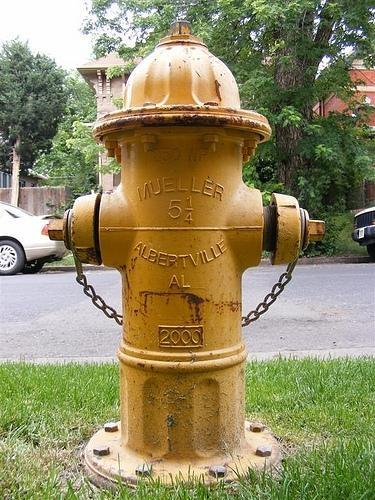car: (0, 200, 62, 271), (351, 205, 375, 264)
